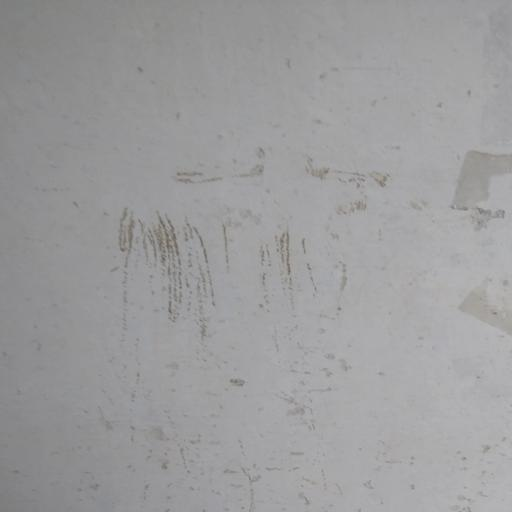stain: (79, 118, 360, 512)
